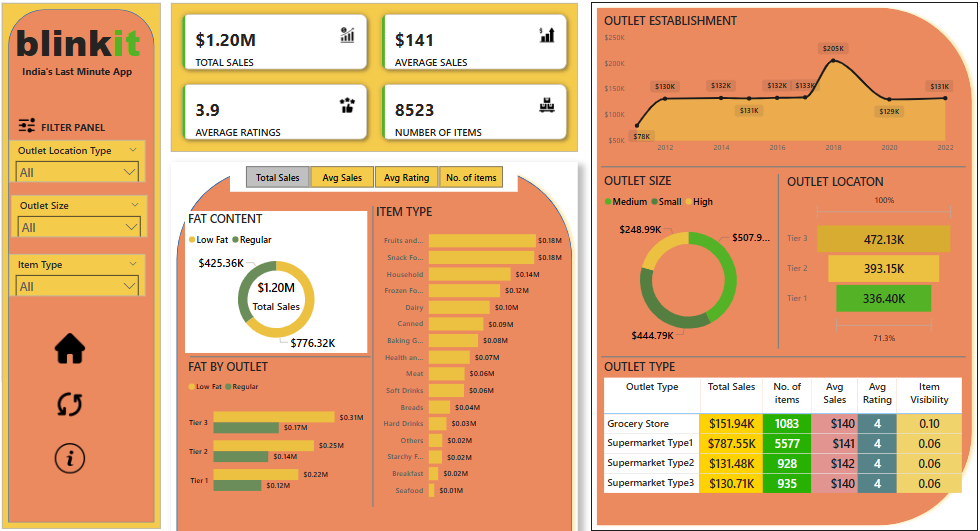

What the dashboard file says about the page in this screenshot:
{"tool":"powerbi","page":{"name":"Dashboard","canvas":[1600,900],"ordinal":0},"visuals":[{"type":"shape","box":[16,32,256,848],"z":0},{"type":"textbox","box":[32,48,224,96],"z":1000},{"type":"textbox","box":[44.3,125.7,205.7,37.1],"z":2000},{"type":"cardVisual","fields":{"Data":["BlinkIT Grocery Data.Total Sales","BlinkIT Grocery Data.Avg Sales","BlinkIT Grocery Data.Avg Rating","BlinkIT Grocery Data.Number of items"]},"box":[288,32,656,240],"z":3000},{"type":"shape","box":[288,288,656,608],"z":4000},{"type":"donutChart","title":"FAT CONTENT","fields":{"Y":["BlinkIT Grocery Data.Total Sales"],"Category":["BlinkIT Grocery Data.Item Fat Content"]},"box":[311.7,367.3,294.3,228.6],"z":5000},{"type":"slicer","fields":{"Values":["Metrics.Metrics"]},"box":[384,288,464,48],"z":6000},{"type":"card","fields":{"Values":["BlinkIT Grocery Data.Total Sales"]},"box":[406.7,456.7,103.3,95],"z":7000},{"type":"clusteredBarChart","title":"FAT BY OUTLET","fields":{"Y":["BlinkIT Grocery Data.Total Sales"],"Category":["BlinkIT Grocery Data.Outlet Location Type"],"Series":["BlinkIT Grocery Data.Item Fat Content"]},"box":[311.7,606.7,295,238.3],"z":8000},{"type":"shape","box":[320,580,291.4,44.3],"z":9000},{"type":"shape","box":[595,360,38.3,485],"z":10000},{"type":"barChart","title":"ITEM TYPE","fields":{"Y":["BlinkIT Grocery Data.Total Sales"],"Category":["BlinkIT Grocery Data.Item Type"]},"box":[615,356.7,310,488.3],"z":11000},{"type":"shape","box":[966.7,30,623.3,853.3],"z":12000},{"type":"lineChart","title":"OUTLET ESTABLISHMENT","fields":{"Category":["BlinkIT Grocery Data.Outlet Establishment Year"],"Y":["BlinkIT Grocery Data.Total Sales"]},"box":[981.7,48.3,573.3,235],"z":13000},{"type":"shape","box":[981.7,279,588.1,34.7],"z":14000},{"type":"donutChart","title":"OUTLET SIZE","fields":{"Y":["BlinkIT Grocery Data.Total Sales"],"Category":["BlinkIT Grocery Data.Outlet Size"]},"box":[981.7,306.1,282,289.5],"z":15000},{"type":"shape","box":[1248.3,308.3,40,281.7],"z":16000},{"type":"funnel","title":"OUTLET LOCATON","fields":{"Y":["Sum(BlinkIT Grocery Data.Sales)"],"Category":["BlinkIT Grocery Data.Outlet Location Type"]},"box":[1276.7,308.3,278.3,280],"z":17000},{"type":"shape","box":[981.7,585.1,588.1,34.7],"z":18000},{"type":"pivotTable","title":"OUTLET TYPE","fields":{"Rows":["BlinkIT Grocery Data.Outlet Type"],"Values":["BlinkIT Grocery Data.Total Sales","BlinkIT Grocery Data.No. of items","BlinkIT Grocery Data.Avg Sales","BlinkIT Grocery Data.Avg Rating","Avg(BlinkIT Grocery Data.Item Visibility)"]},"box":[981.7,606.7,588.3,238.3],"z":19000},{"type":"slicer","fields":{"Values":["BlinkIT Grocery Data.Outlet Location Type"]},"box":[26.7,253.3,220,68.3],"z":20000},{"type":"slicer","fields":{"Values":["BlinkIT Grocery Data.Outlet Size"]},"box":[30,341.7,220,68.3],"z":21000},{"type":"slicer","fields":{"Values":["BlinkIT Grocery Data.Item Type"]},"box":[26.7,436.7,220,68.3],"z":22000},{"type":"textbox","box":[74.2,215.7,123.7,37.7],"z":23000},{"type":"image","box":[95,559.5,60.3,58.8],"z":24000},{"type":"image","box":[36.5,206.6,37.7,46.7],"z":25000},{"type":"image","box":[95,650,60.3,58.8],"z":26000},{"type":"image","box":[95,737.4,60.3,58.8],"z":28000}]}

Visuals, with their boxes in screenshot pixels (x1, y1, x2, y2):
shape: l=17, t=1, r=172, b=513
textbox: l=27, t=11, r=162, b=69
textbox: l=34, t=58, r=158, b=80
cardVisual - BlinkIT Grocery Data.Total Sales x BlinkIT Grocery Data.Avg Sales: l=181, t=1, r=577, b=146
shape: l=181, t=156, r=577, b=522
"FAT CONTENT" donutChart: l=196, t=204, r=373, b=341
slicer - Metrics.Metrics: l=239, t=156, r=519, b=185
card - BlinkIT Grocery Data.Total Sales: l=253, t=258, r=315, b=315
"FAT BY OUTLET" clusteredBarChart: l=196, t=348, r=374, b=492
shape: l=201, t=332, r=376, b=359
shape: l=366, t=199, r=390, b=492
"ITEM TYPE" barChart: l=379, t=197, r=565, b=492
shape: l=591, t=0, r=966, b=515
"OUTLET ESTABLISHMENT" lineChart: l=600, t=11, r=945, b=153
shape: l=600, t=150, r=954, b=171
"OUTLET SIZE" donutChart: l=600, t=167, r=770, b=341
shape: l=760, t=168, r=785, b=338
"OUTLET LOCATON" funnel: l=778, t=168, r=945, b=337
shape: l=600, t=335, r=954, b=356
"OUTLET TYPE" pivotTable: l=600, t=348, r=954, b=492
slicer - BlinkIT Grocery Data.Outlet Location Type: l=24, t=135, r=156, b=176
slicer - BlinkIT Grocery Data.Outlet Size: l=26, t=188, r=158, b=229
slicer - BlinkIT Grocery Data.Item Type: l=24, t=245, r=156, b=287
textbox: l=52, t=112, r=127, b=135
image: l=65, t=320, r=101, b=355
image: l=30, t=107, r=52, b=135
image: l=65, t=374, r=101, b=410
image: l=65, t=427, r=101, b=462
